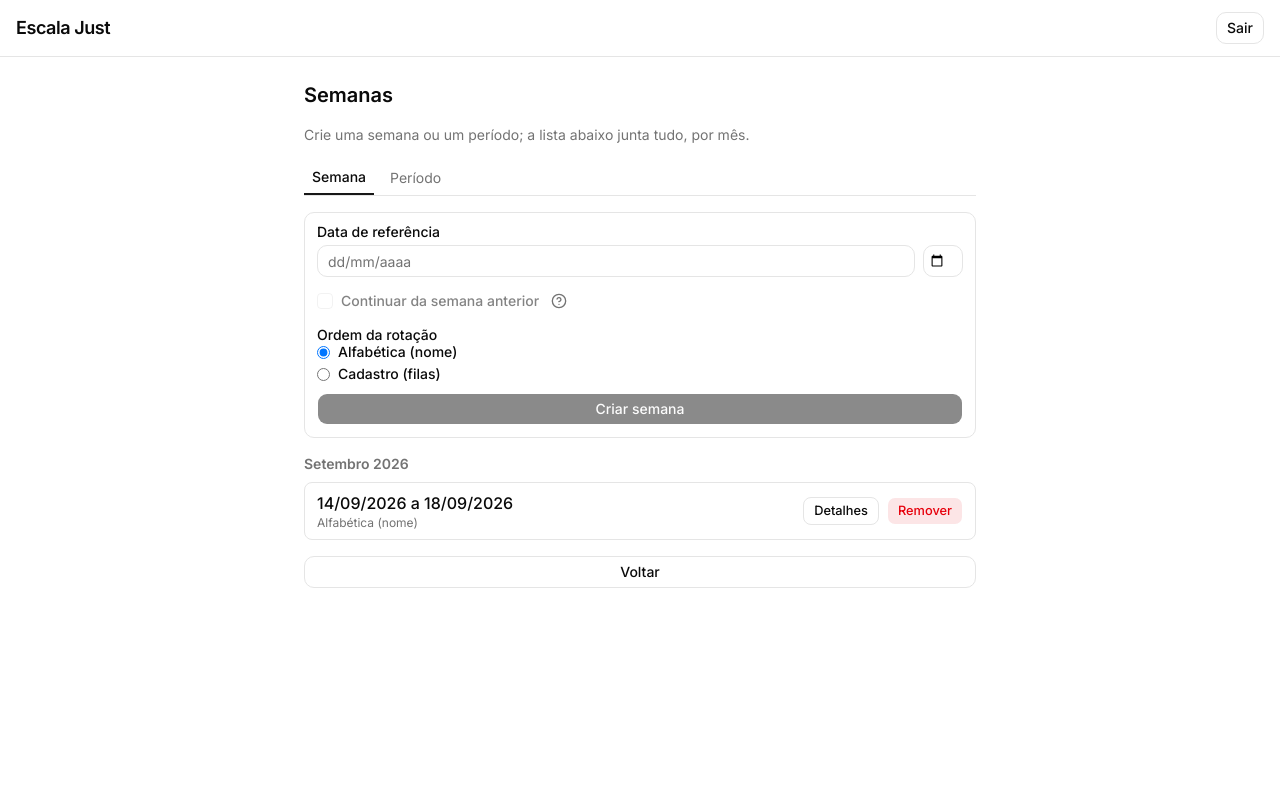
Test case: guardas de rota › criar a mesma segunda mostra erro e não duplica a linha
Expected: the text "14/09/2026 a 18/09/2026" is shown, [317,491,513,515]
Type "16/09/2026" into the field labelled "Data de referência". click: (616, 261)
box: [317,245,915,277]
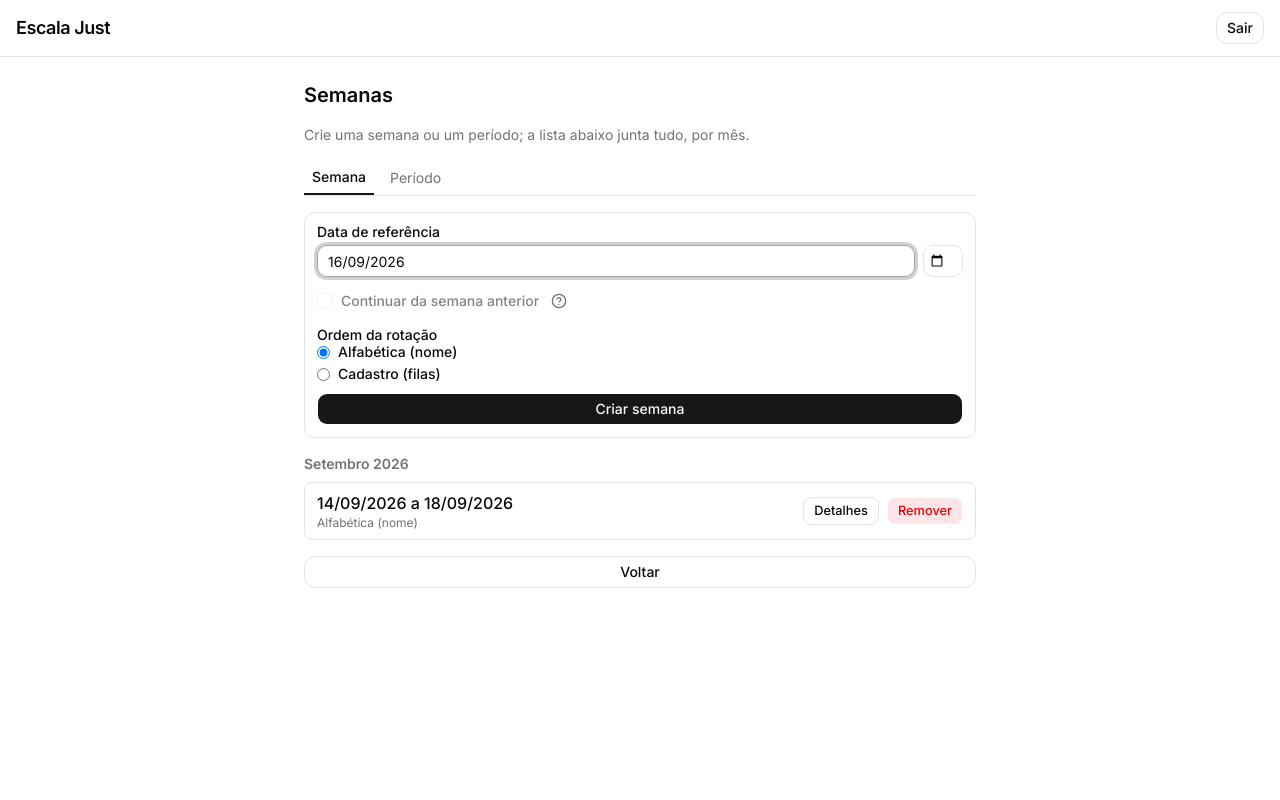
Click the button "Criar semana". click: click(640, 409)
box: [317,393,963,425]
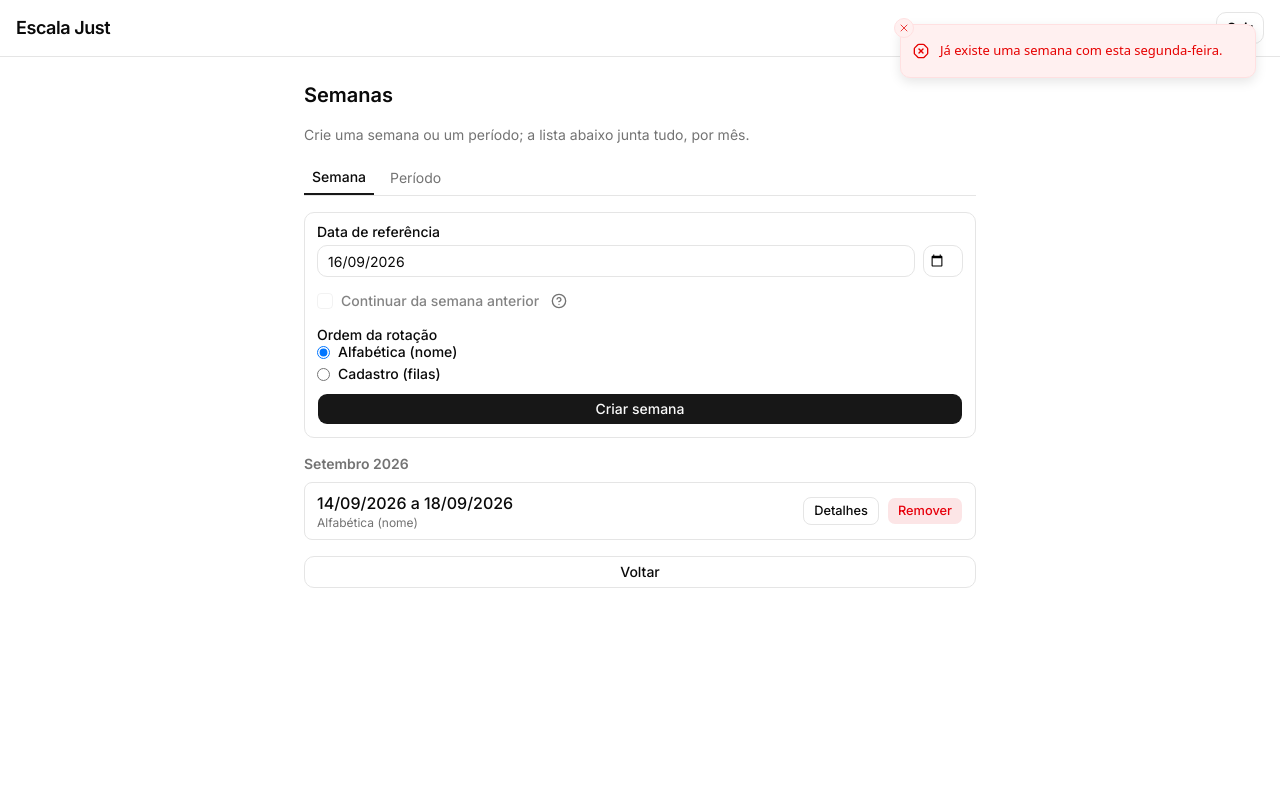
Expected: the text "14/09/2026 a 18/09/2026" is shown once, [317,491,513,515]
Result: the text "Já existe uma semana com esta segunda-feira." is shown at [940,41,1222,60]
